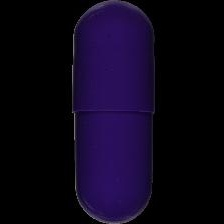0076-0111: (0, 0, 224, 224)
